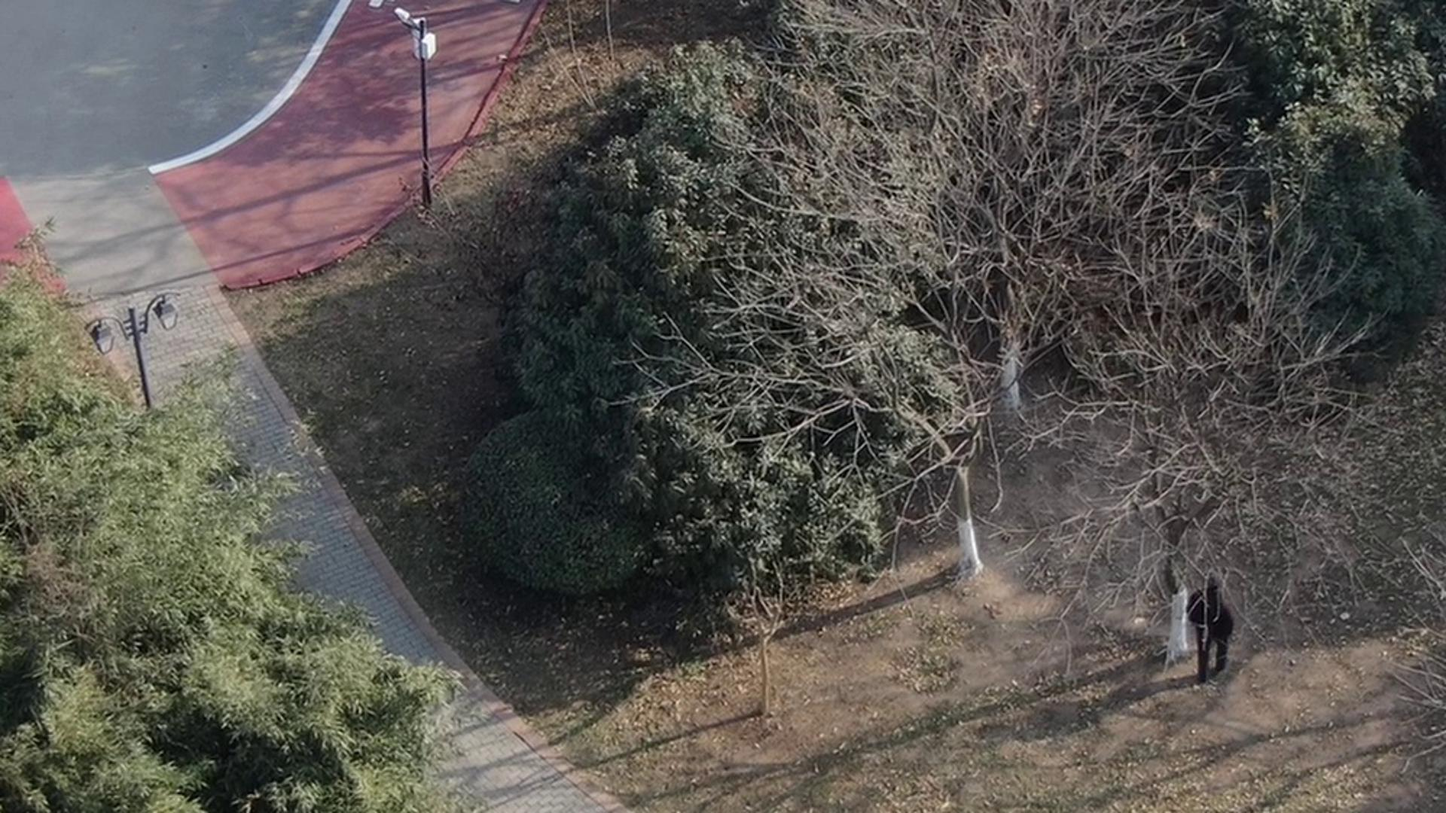human: (1173, 557, 1228, 671)
